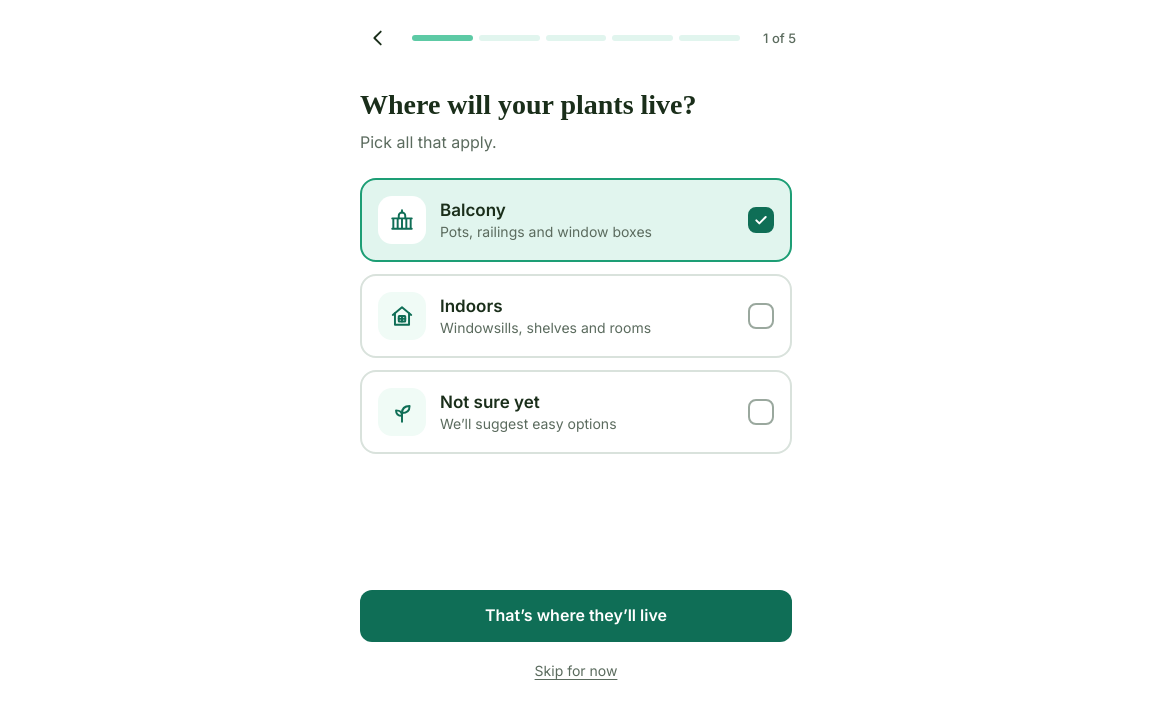
Test case: Step 2 — where will your plants live? › goes back to Welcome
Expected: the heading "Where will your plants live?" is shown, x1=360 y1=89 x2=696 y2=120
Click the link named "Back": click(378, 38) x1=367 y1=27 x2=389 y2=49
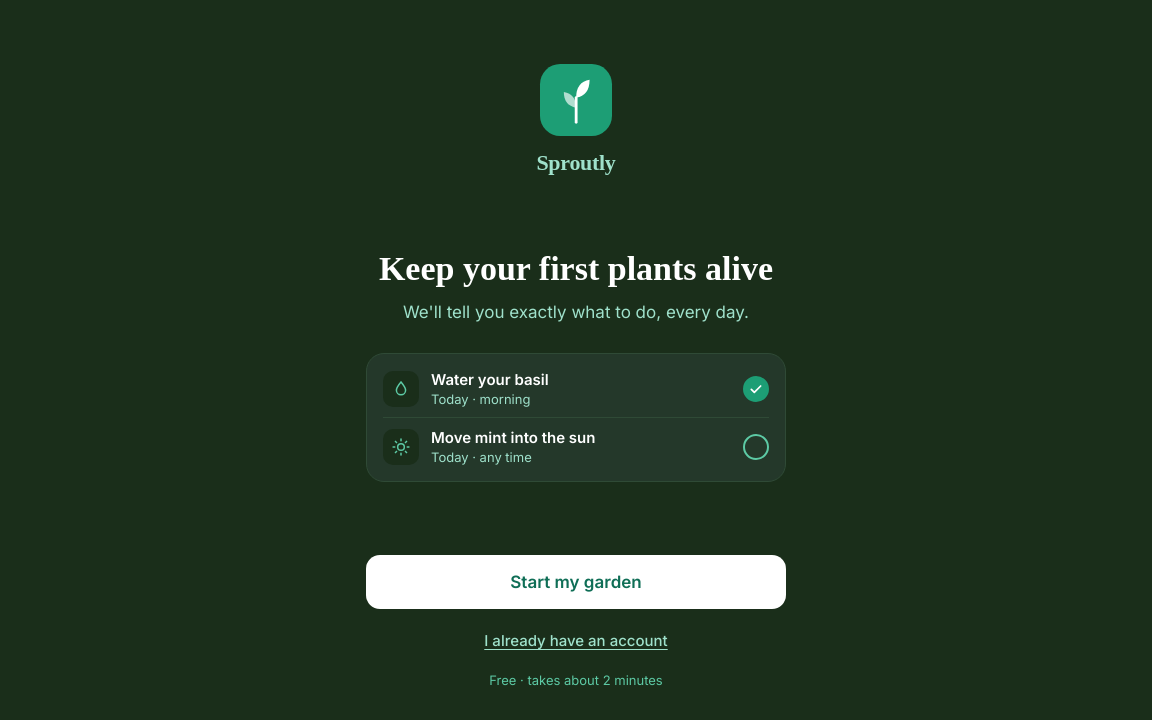
Expected: the heading "Keep your first plants alive" is shown, x1=366 y1=249 x2=786 y2=288
